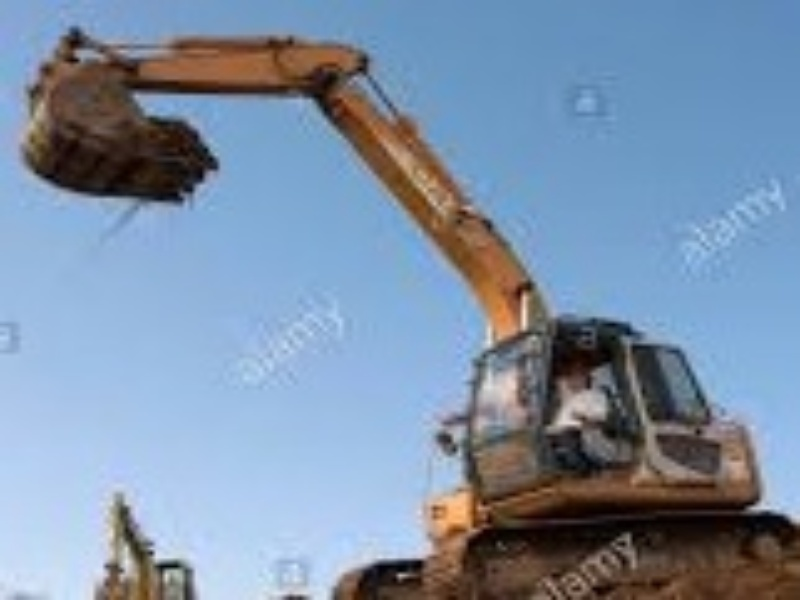wajueji: (402, 265, 765, 600)
